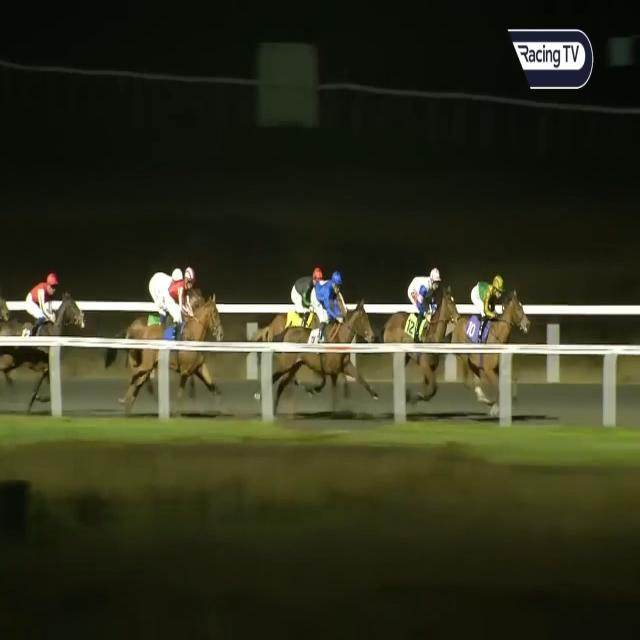horses-racing: (4, 268, 84, 406), (282, 272, 365, 404), (148, 268, 224, 401), (454, 275, 530, 394), (387, 265, 456, 374), (272, 262, 338, 336), (146, 259, 195, 346)
